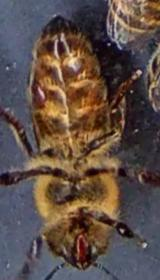varroa_mite: (20, 70, 52, 117)
